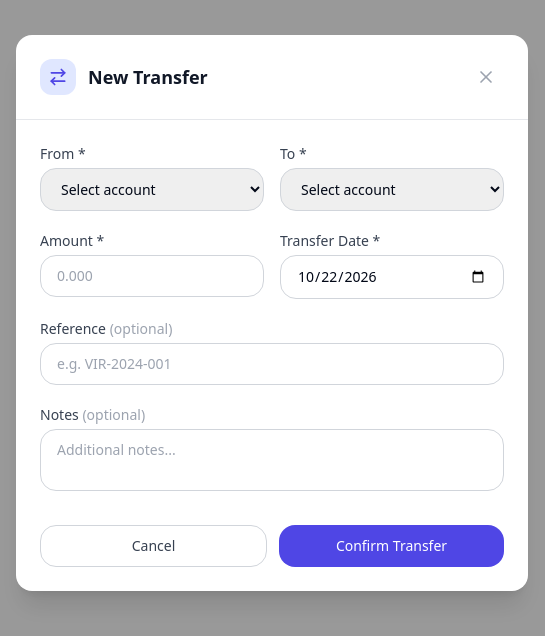
Test: TransferModal › Validation › should show error when from account is not selected
Click the button "Confirm Transfer": (392, 546) x1=279 y1=525 x2=504 y2=567
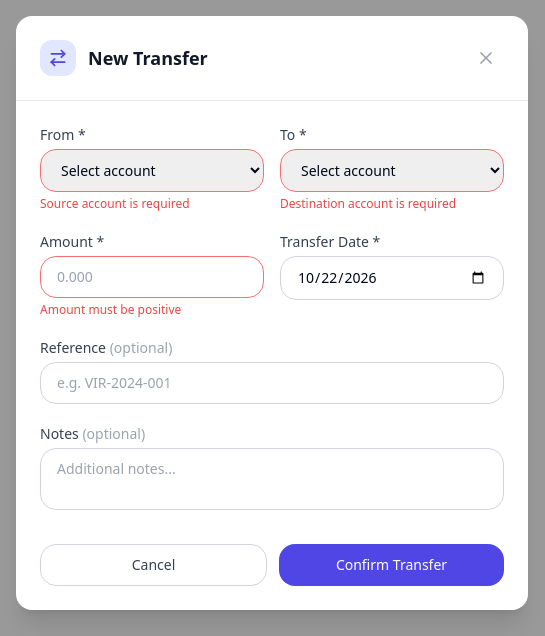
Result: the text "Source account is required" is shown at x1=40 y1=195 x2=190 y2=212
